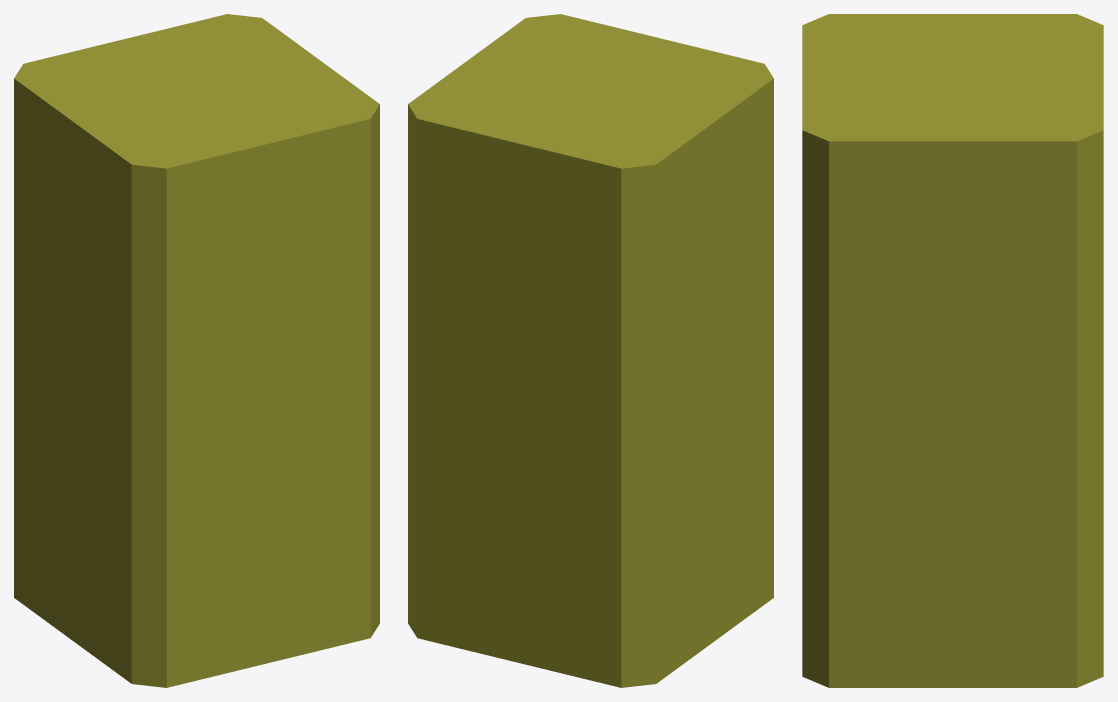
The model's file is ThrowProp_BuildingBlock_BoxM.FBX.
3 renders of one model, left to right at view 1: azimuth 30°, elevation 25°; view 2: azimuth 150°, elevation 25°; view 3: azimuth 270°, elevation 25°, orthographic. The views are drawn at different scales.
Parts seen in each view (by area): view 1: BuildingBlock_BoxM; view 2: BuildingBlock_BoxM; view 3: BuildingBlock_BoxM.
Part boxes in pixels (bbox=[...]): BuildingBlock_BoxM: bbox=[14, 14, 379, 687]; BuildingBlock_BoxM: bbox=[408, 14, 773, 687]; BuildingBlock_BoxM: bbox=[802, 14, 1103, 687].
Bounding box in the file's own units: 5 × 10 × 5.
1 material, 1 textured.
